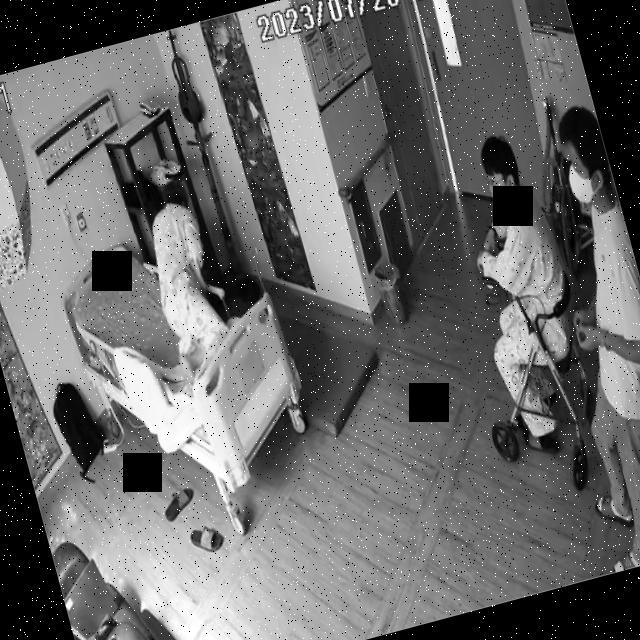danger: (125, 170, 238, 383)
patient: (125, 170, 238, 385)
